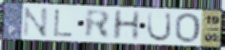H: (110, 9, 142, 42)
L: (53, 8, 75, 38)
N: (21, 6, 50, 38)
O: (174, 12, 201, 44)
R: (84, 8, 112, 41)
U: (145, 10, 173, 43)
